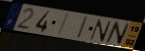2: (15, 7, 36, 31)
4: (33, 10, 51, 34)
I: (57, 13, 71, 36), (76, 16, 89, 40)
N: (104, 21, 131, 46), (88, 19, 113, 43)
